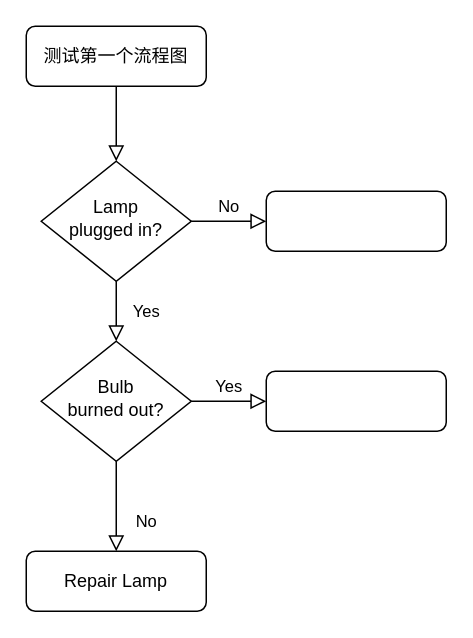
The diagram is 473 pixels wide and 638 high, and some of its shapes have lost their labels. Each missing label, with the box of its shape:
Plug in lamp: (265, 190, 446, 251)
Replace Bulb: (265, 370, 446, 431)
